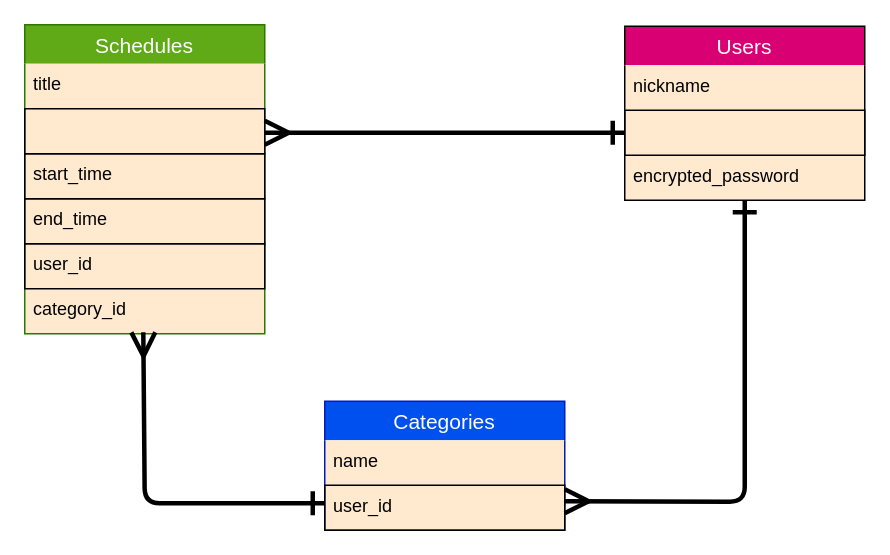
Some shapes in this 890 by 555 pixel diagram are drawn without their labels. Here are the shapes that lost their labels. From the top down, the centre of each, then its label:
(144,130): description
(744,132): email
